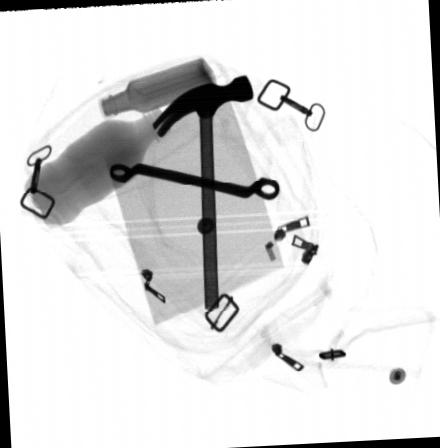Hammer: (152, 75, 253, 310)
Wrench: (109, 162, 280, 199)
